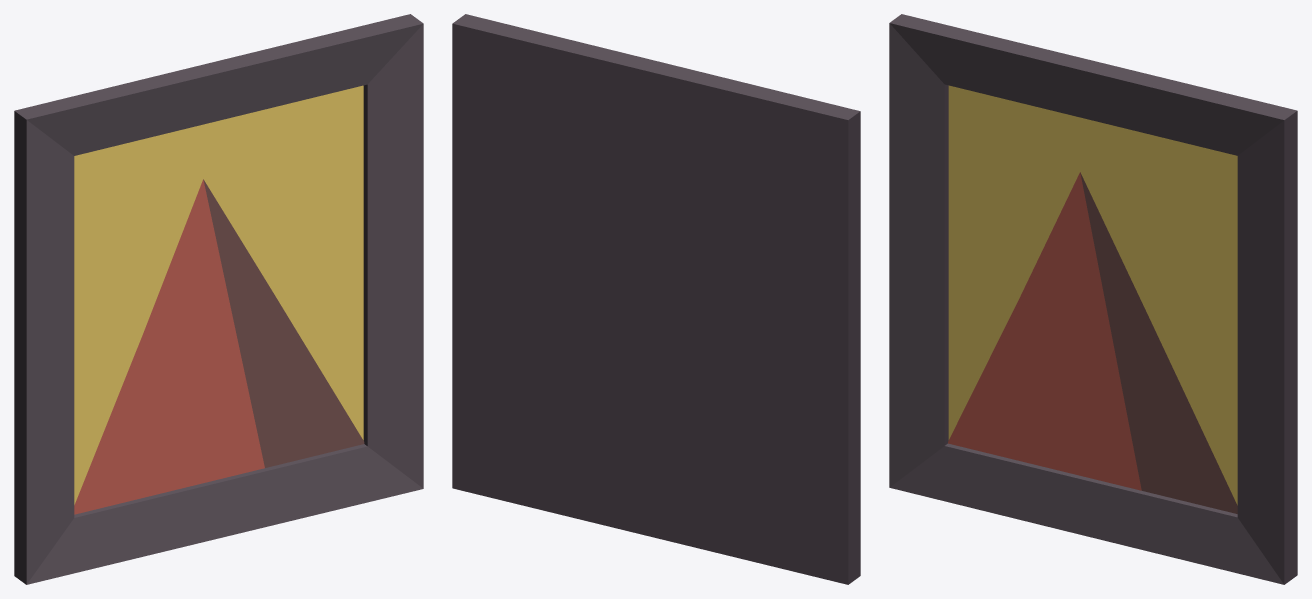
The model's file is Pyramid Frame.fbx.
The picture shows the model from 3 angles, left to right: view 1: azimuth 30°, elevation 25°; view 2: azimuth 150°, elevation 25°; view 3: azimuth 330°, elevation 25°; orthographic projection.
Parts seen in each view (by area): view 1: Pyramid Frame; view 2: Pyramid Frame; view 3: Pyramid Frame.
Part boxes in pixels (x1=…): Pyramid Frame: x1=14, y1=14, x2=423, y2=584; Pyramid Frame: x1=452, y1=14, x2=860, y2=584; Pyramid Frame: x1=889, y1=14, x2=1297, y2=584.
Bounding box in the file's own units: 200 × 224 × 11.5.
